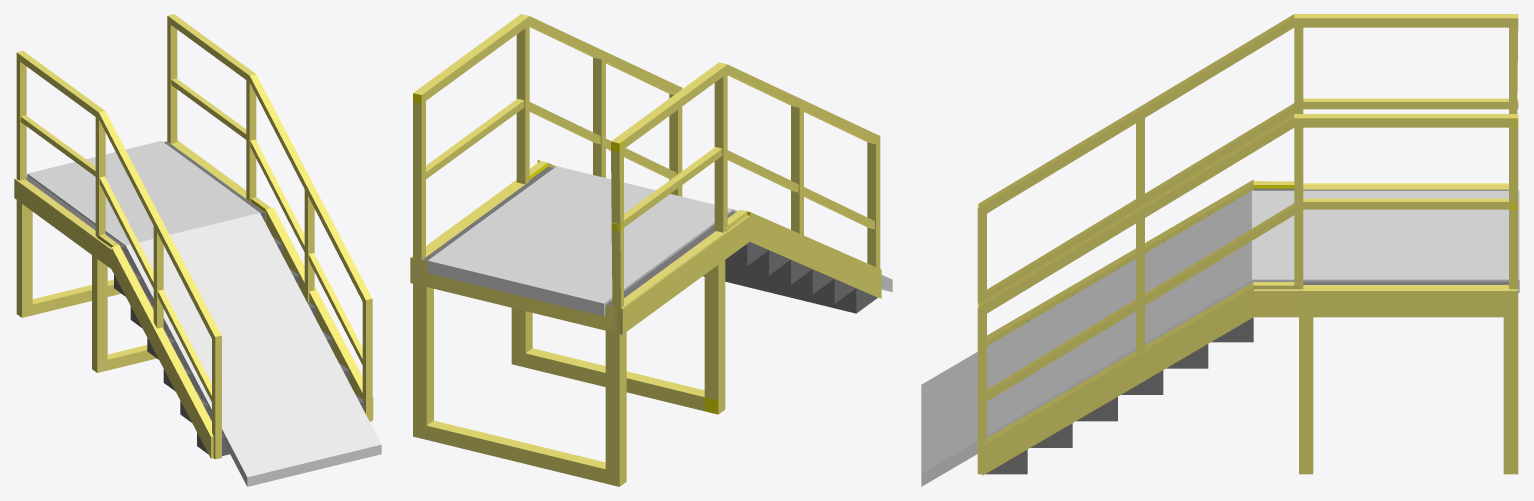
File: Stairwell_Exit.fbx
3 renders of one model, left to right at view 1: azimuth 30°, elevation 25°; view 2: azimuth 150°, elevation 25°; view 3: azimuth 270°, elevation 25°, orthographic. The views are drawn at different scales.
Visible parts, largest first — view 1: NavPlaceholder, Stairwell_Exit; view 2: Stairwell_Exit, NavPlaceholder; view 3: Stairwell_Exit, NavPlaceholder.
Boxes of the visible parts, x1,y1,x2,y2 form: NavPlaceholder: (27,141,381,486); Stairwell_Exit: (14,14,373,459); Stairwell_Exit: (410,14,881,486); NavPlaceholder: (427,166,892,316); Stairwell_Exit: (977,14,1518,475); NavPlaceholder: (921,190,1519,486).
Size of the model in its own units: 1.25 by 2.93 by 2.04.
